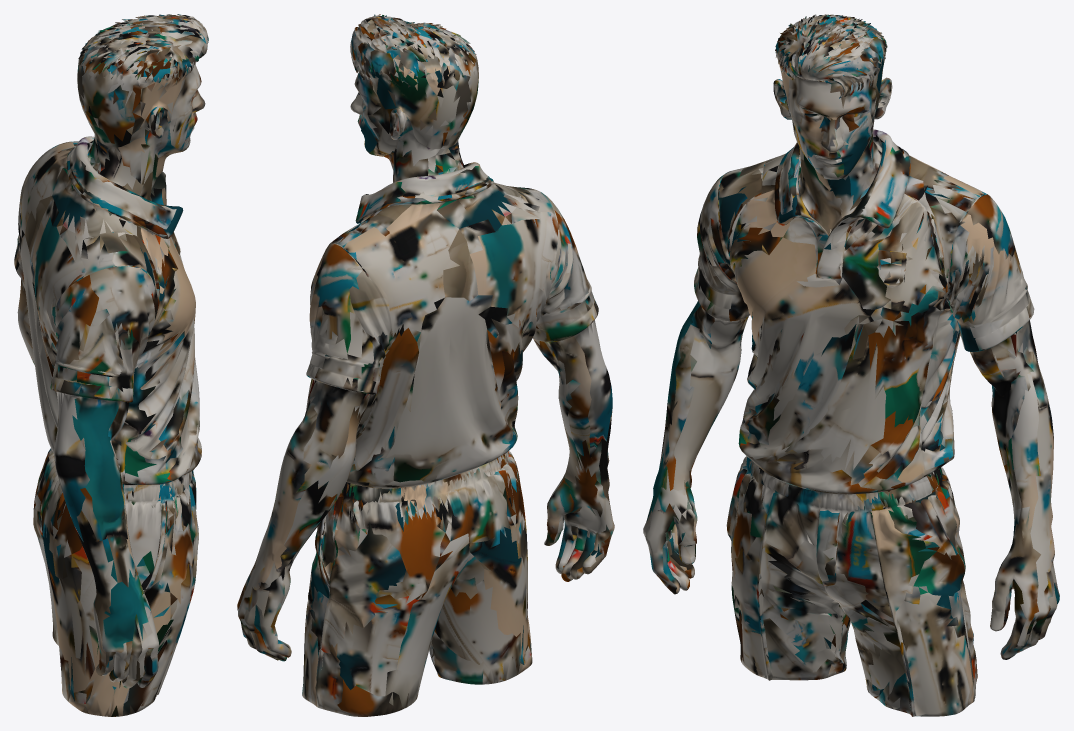
Rendered from SM_C26_Player_Batter.fbx.
3 renders of one model, left to right at view 1: azimuth 30°, elevation 25°; view 2: azimuth 150°, elevation 25°; view 3: azimuth 270°, elevation 25°, orthographic. The views are drawn at different scales.
Parts seen in each view (by area): view 1: node_0; view 2: node_0; view 3: node_0.
Boxes of the visible parts, x1,y1,x2,y2 form: node_0: (14, 14, 208, 716); node_0: (237, 14, 614, 716); node_0: (643, 14, 1059, 716).
Bounding box in the file's own units: 100 × 64.18 × 177.
